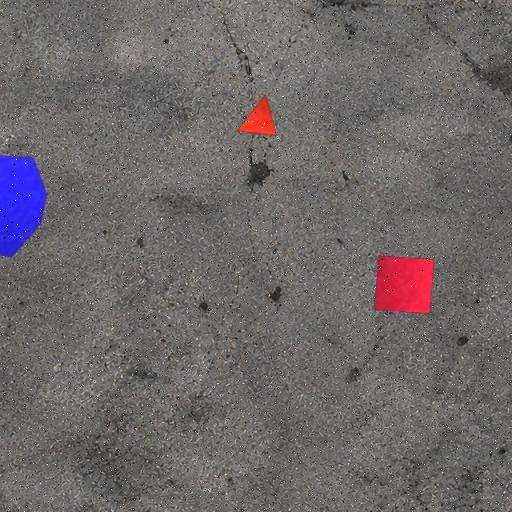RED_SQUARE: (374, 256, 435, 314)
